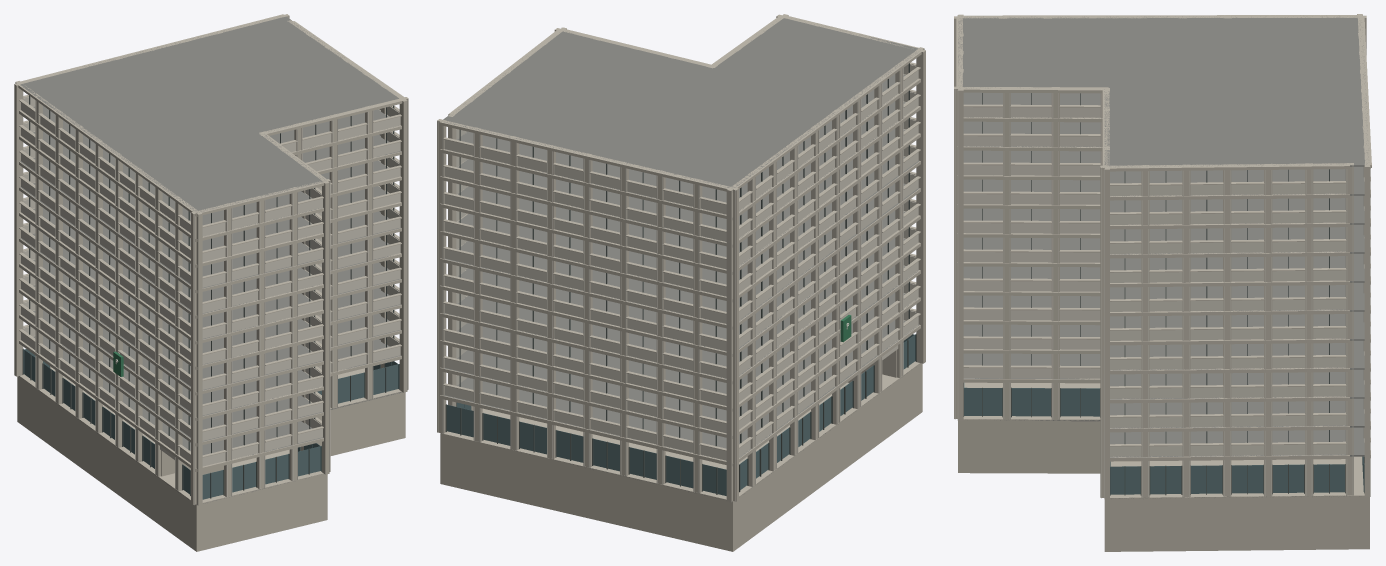
File: washington_franklin_garage.glb
The picture shows the model from 3 angles, left to right: view 1: azimuth 30°, elevation 25°; view 2: azimuth 150°, elevation 25°; view 3: azimuth 270°, elevation 25°; orthographic projection. The views are drawn at different scales.
Visible parts, largest first — view 1: Washington garage pale masonry piers, Washington garage recessed concrete slabs, Washington garage pale inset spandrels, Washington garage recessed retail glazing, Washington garage dark bay frames; view 2: Washington garage pale masonry piers, Washington garage recessed concrete slabs, Washington garage pale inset spandrels, Washington garage recessed retail glazing, Washington garage dark bay frames; view 3: Washington garage recessed concrete slabs, Washington garage pale masonry piers, Washington garage pale inset spandrels, Washington garage recessed retail glazing, Washington garage dark bay frames.
Part boxes in pixels (x1,y1,x2,y2): Washington garage pale masonry piers: [14, 14, 408, 551]; Washington garage recessed concrete slabs: [20, 16, 402, 503]; Washington garage pale inset spandrels: [15, 14, 408, 505]; Washington garage recessed retail glazing: [23, 349, 399, 499]; Washington garage dark bay frames: [22, 95, 399, 498]; Washington garage pale masonry piers: [437, 14, 925, 551]; Washington garage recessed concrete slabs: [441, 18, 919, 499]; Washington garage pale inset spandrels: [437, 14, 925, 502]; Washington garage recessed retail glazing: [447, 334, 915, 495]; Washington garage dark bay frames: [445, 63, 916, 494]; Washington garage recessed concrete slabs: [958, 16, 1368, 498]; Washington garage pale masonry piers: [954, 14, 1371, 551]; Washington garage pale inset spandrels: [954, 14, 1370, 499]; Washington garage recessed retail glazing: [964, 383, 1364, 494]; Washington garage dark bay frames: [963, 93, 1364, 495].
Size of the model in its own units: 49.67 by 57 by 56.2.
